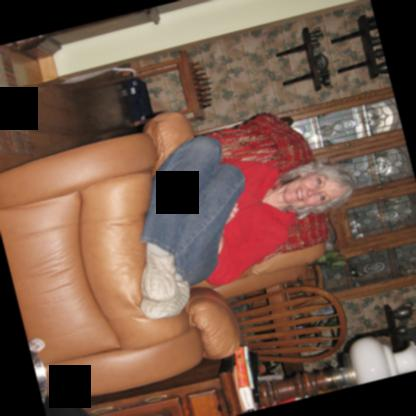backpack: (43, 397, 89, 416)
